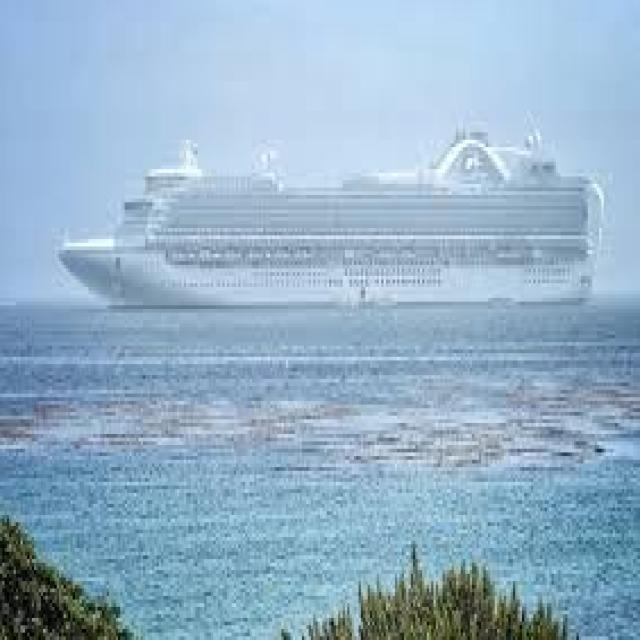passenger ship: (54, 128, 610, 302)
